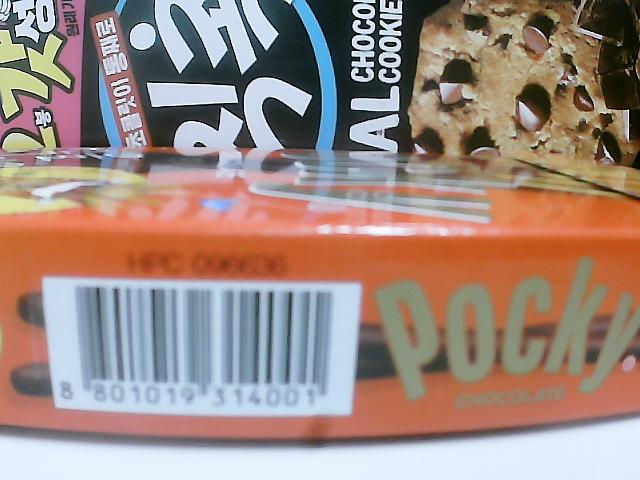redpocky-1800-2025-7-23: (46, 282, 352, 421)
